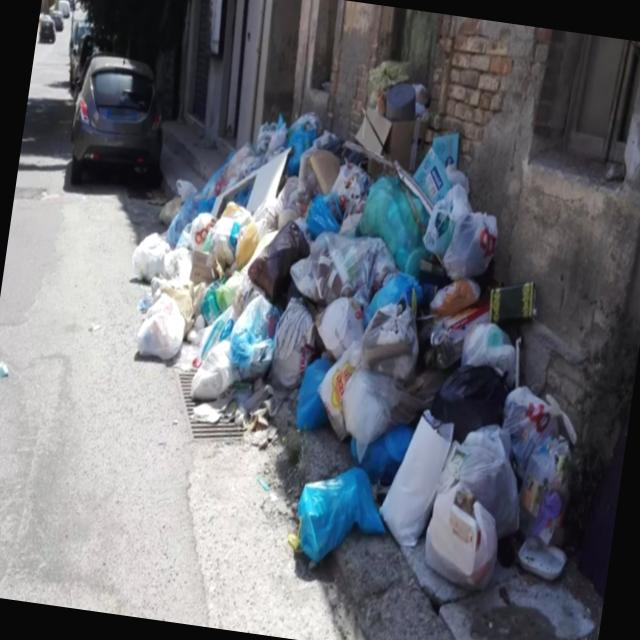garbage: (94, 35, 640, 610)
